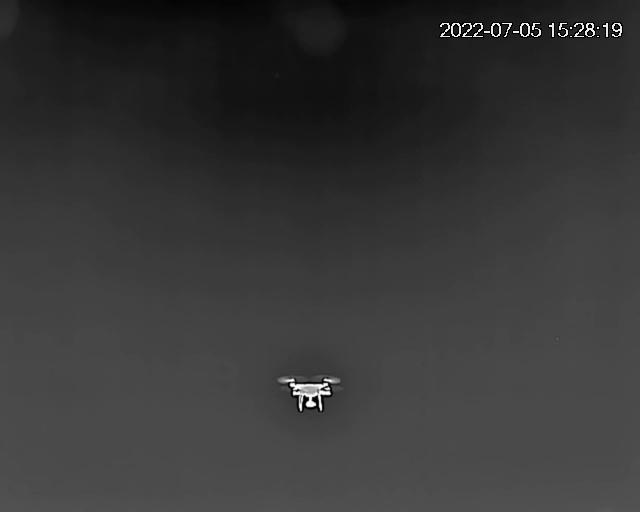DJI-Phantom: (278, 376, 342, 411)
